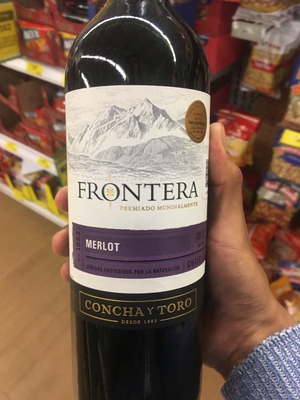frontera merlot: (49, 14, 215, 363)
